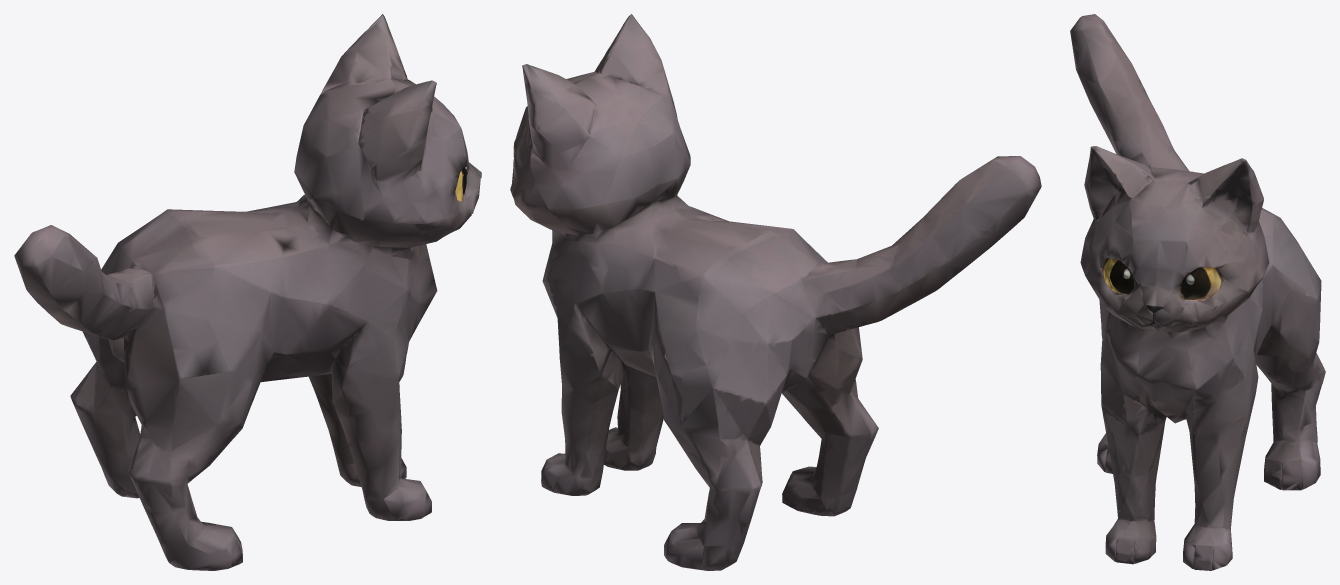
Rendered from SNUGPAW.glb.
The picture shows the model from 3 angles, left to right: view 1: azimuth 30°, elevation 25°; view 2: azimuth 150°, elevation 25°; view 3: azimuth 270°, elevation 25°; orthographic projection. The views are drawn at different scales.
Parts seen in each view (by area): view 1: material; view 2: material; view 3: material.
Boxes of the visible parts, x1,y1,x2,y2 form: material: (14, 14, 481, 570); material: (510, 14, 1041, 570); material: (1070, 14, 1325, 570).
Bounding box in the file's own units: 1.18 × 0.9999 × 0.5617.
1 material, 1 textured.
